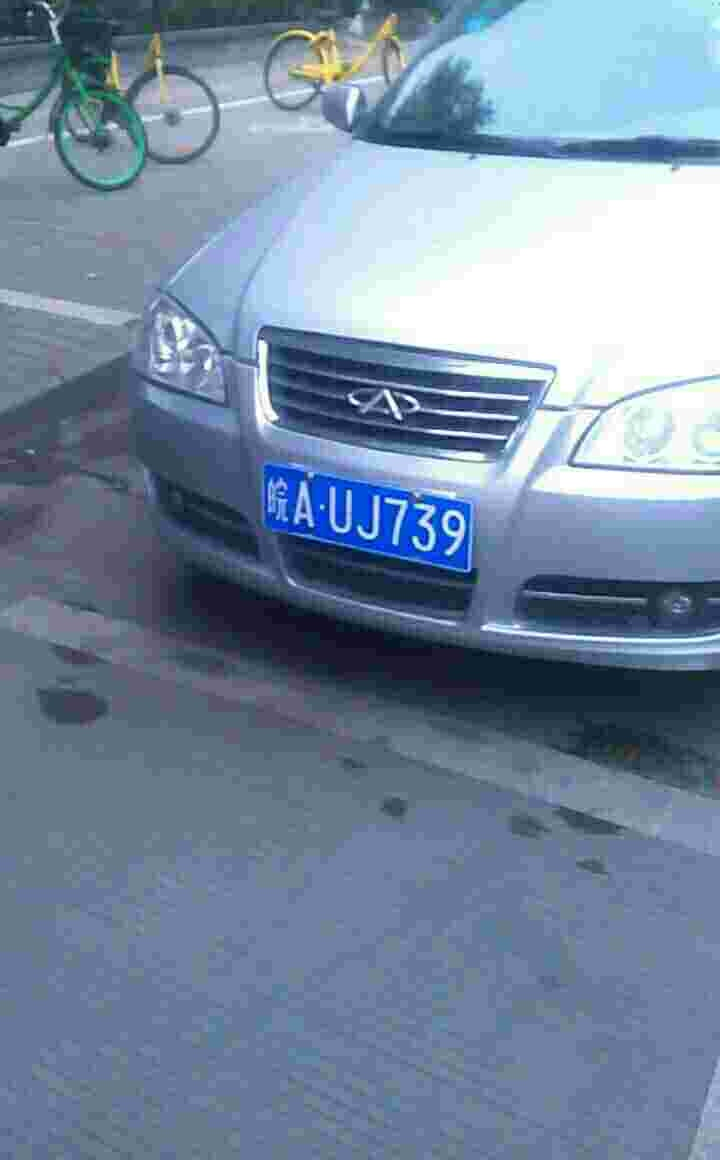license_plate: (258, 459, 488, 583)
